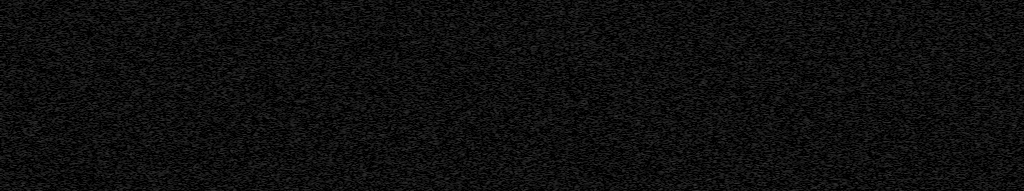wv_cw: (718, 0, 724, 191)
wv_lsb: (957, 1, 963, 106), (569, 10, 574, 135), (963, 1, 968, 90), (958, 107, 963, 191), (569, 136, 574, 191), (962, 158, 968, 191), (963, 110, 968, 132), (569, 1, 574, 9), (964, 133, 967, 142), (963, 143, 967, 149), (963, 92, 967, 98), (964, 100, 967, 106), (964, 150, 967, 155)
wv_usb: (402, 1, 407, 74), (402, 75, 407, 123), (402, 127, 406, 171), (402, 176, 407, 191), (403, 172, 406, 175)
wv_wbfm: (262, 0, 276, 191)
